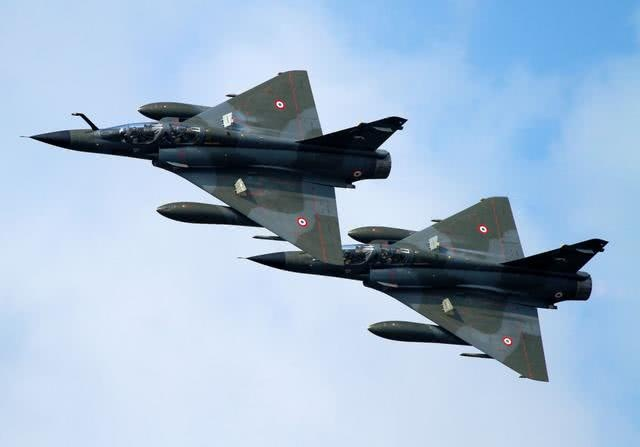airplane: (12, 68, 412, 257), (245, 195, 608, 385)
